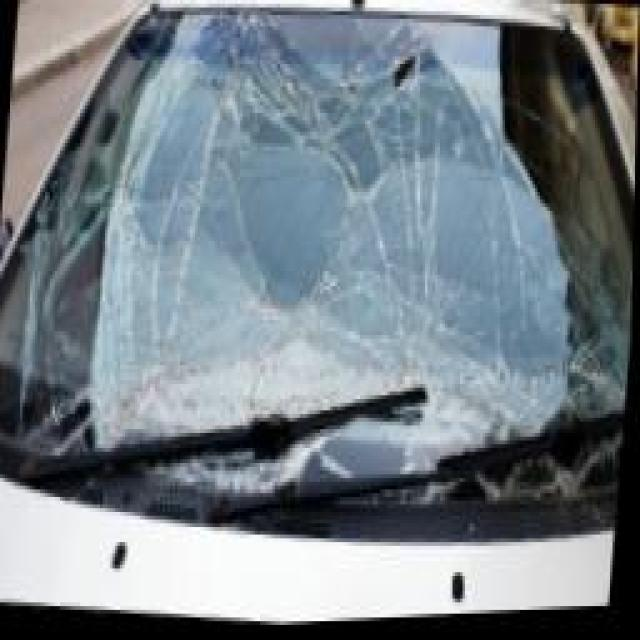Windshield: (0, 0, 640, 580)
